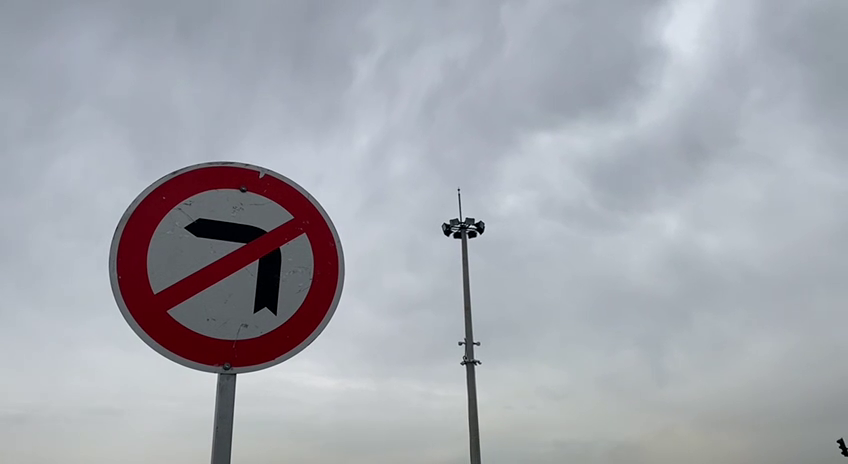noTurnLeft: (102, 152, 349, 378)
